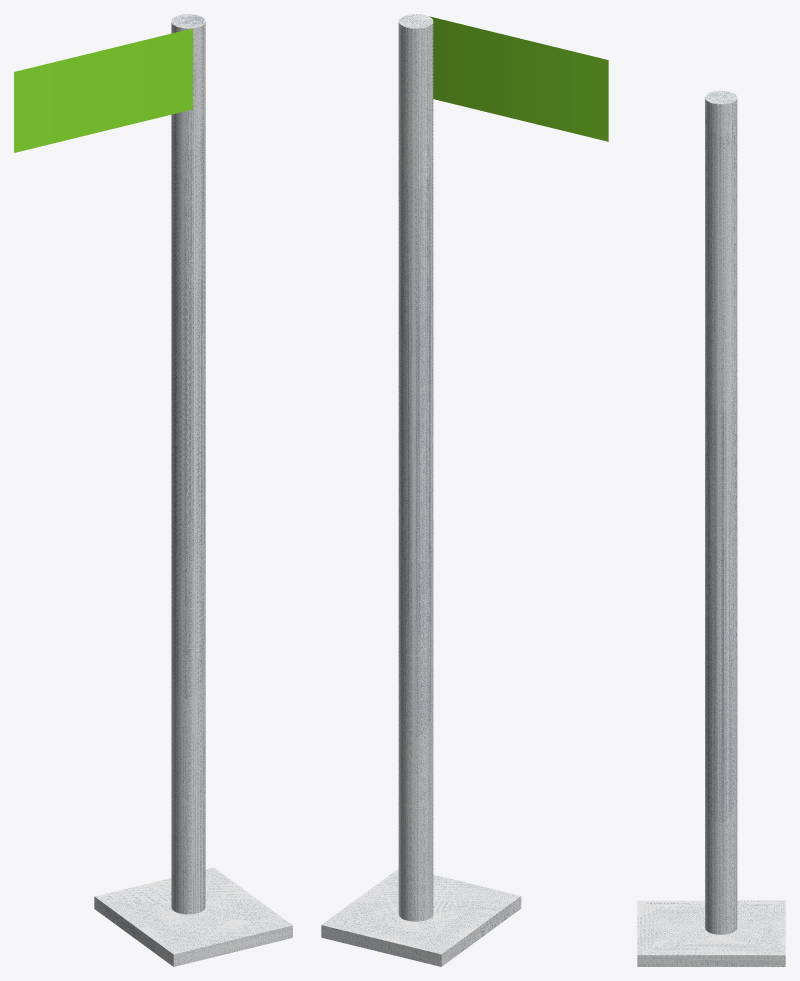
Rendered from Flag.fbx.
3 views of the same model, side by side, from view 1: azimuth 30°, elevation 25°; view 2: azimuth 150°, elevation 25°; view 3: azimuth 270°, elevation 25° (orthographic). The views are drawn at different scales.
Visible parts, largest first — view 1: Model; view 2: Model; view 3: Model.
Boxes of the visible parts, x1,y1,x2,y2 form: Model: (14,14,292,966); Model: (321,14,608,966); Model: (637,90,785,966).
Size of the model in its own units: 0.4065 by 1.44 by 0.23.
